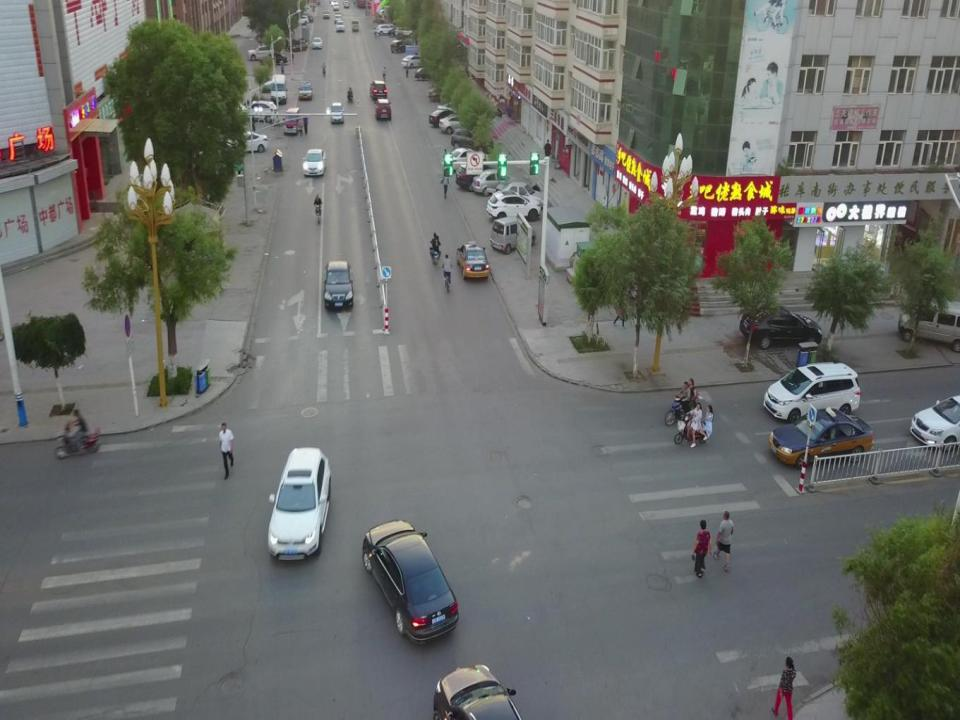car: (359, 516, 459, 646), (266, 442, 334, 565), (767, 407, 876, 472), (760, 364, 865, 424), (428, 659, 526, 720), (738, 306, 823, 347), (908, 392, 960, 451), (322, 258, 356, 312), (485, 190, 542, 222), (455, 238, 491, 282), (496, 180, 546, 210), (471, 168, 518, 196), (454, 163, 498, 191), (442, 147, 491, 172), (450, 127, 494, 153), (225, 131, 269, 155), (438, 113, 484, 135), (239, 99, 278, 124), (302, 146, 327, 177), (428, 108, 466, 127), (246, 43, 278, 61), (372, 97, 392, 122), (427, 85, 453, 104), (368, 78, 388, 102), (260, 52, 288, 67), (414, 66, 440, 82), (402, 54, 430, 68), (298, 79, 314, 103), (390, 38, 414, 54), (288, 37, 308, 51), (388, 26, 408, 38), (376, 24, 396, 36), (394, 26, 412, 37), (312, 35, 324, 51), (336, 20, 344, 33)
van: (897, 296, 960, 353), (489, 216, 537, 254), (282, 105, 301, 136), (270, 72, 286, 106), (328, 102, 344, 125), (351, 18, 359, 32)
